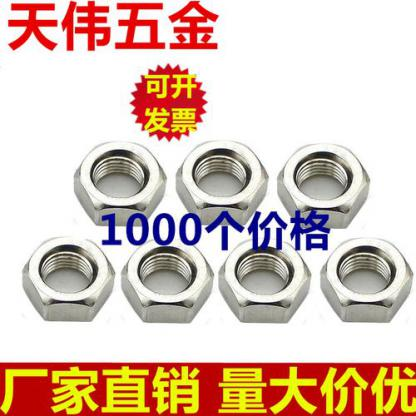FOD: (217, 233, 314, 326), (17, 233, 117, 322), (120, 233, 215, 325), (70, 138, 165, 229), (175, 138, 270, 228), (276, 141, 372, 230), (320, 236, 414, 325)
